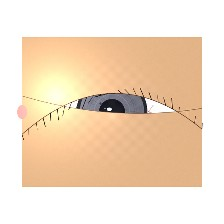pinguecula_lesion: (153, 108, 182, 132)
